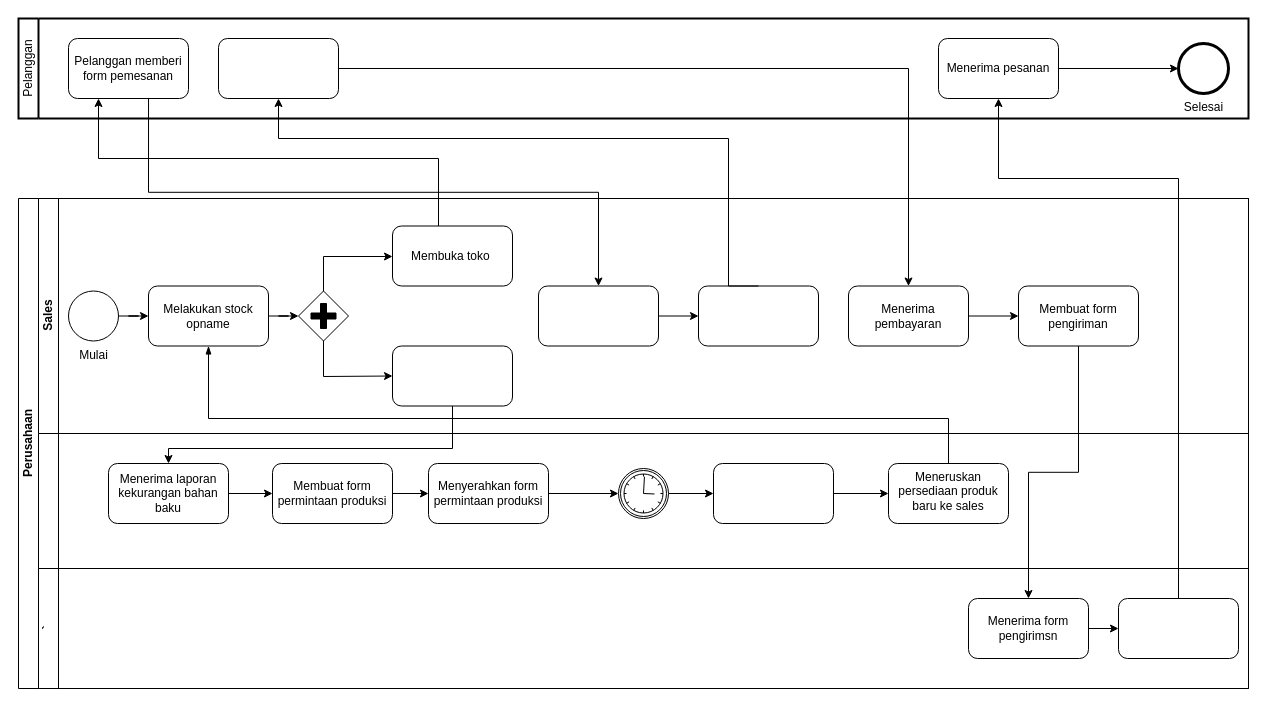
This 1266x706 diagram has some shape labels left out. Here are the shapes that lost their labels. From the top down, the box of each, then its label:
(218, 38, 338, 98): Melakukan pembayaran
(538, 285, 658, 346): Menyediakan pesanan pelanggan
(698, 285, 818, 346): Membuat nota pembayaran
(392, 345, 512, 406): Melaporkan kekurangan persediaan produk
(618, 468, 668, 518): Menunggu divisi produksi membuat persediaan produk baru
(38, 432, 1248, 568): Inventori
(712, 462, 834, 524): Menerima persediaan produk baru yang telah dibuat
(1118, 598, 1238, 658): Mengemas dan mengirim produk ke pelanggan
